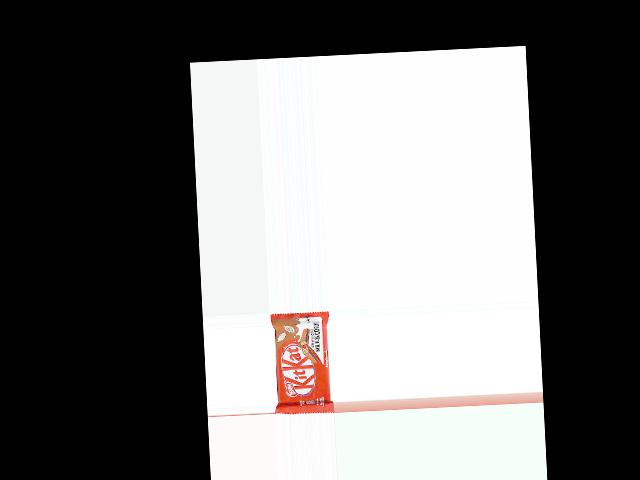chocolate: (270, 310, 334, 415)
